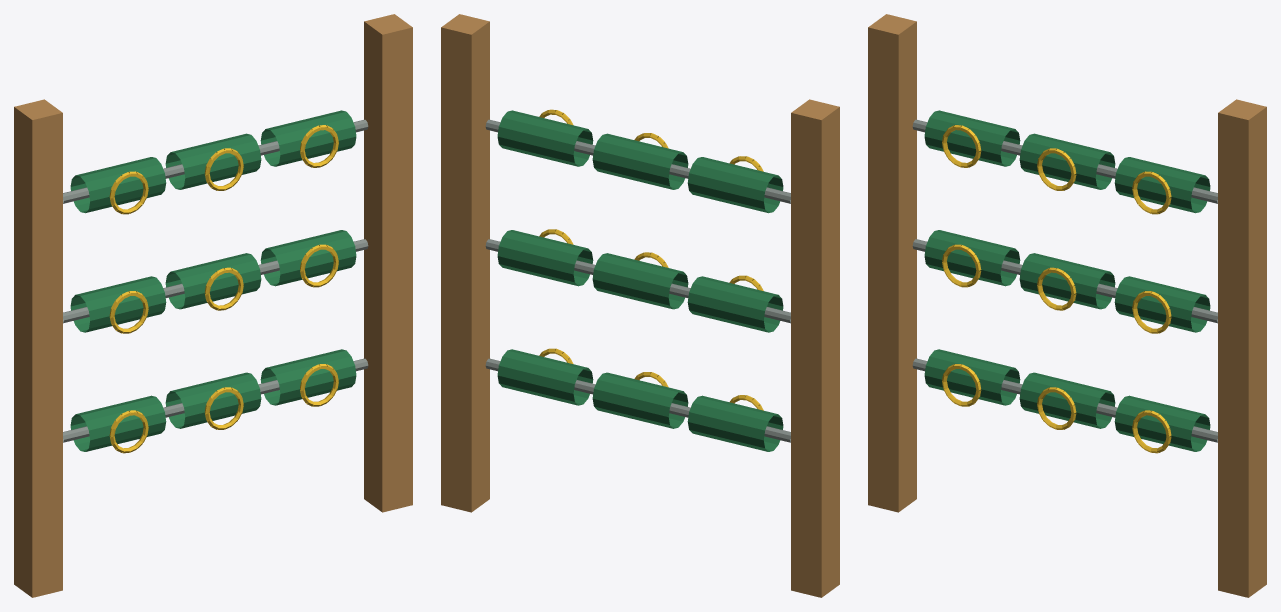
3 views of the same model, side by side, from view 1: azimuth 30°, elevation 25°; view 2: azimuth 150°, elevation 25°; view 3: azimuth 330°, elevation 25° (orthographic).
Visible parts, largest first — view 1: SW-A410; view 2: SW-A410; view 3: SW-A410.
Boxes of the visible parts, <box> form: SW-A410: <box>14,14,412,597</box>; SW-A410: <box>441,14,839,597</box>; SW-A410: <box>868,14,1266,597</box>.
Size of the model in its own units: 1 by 1.2 by 0.1.
